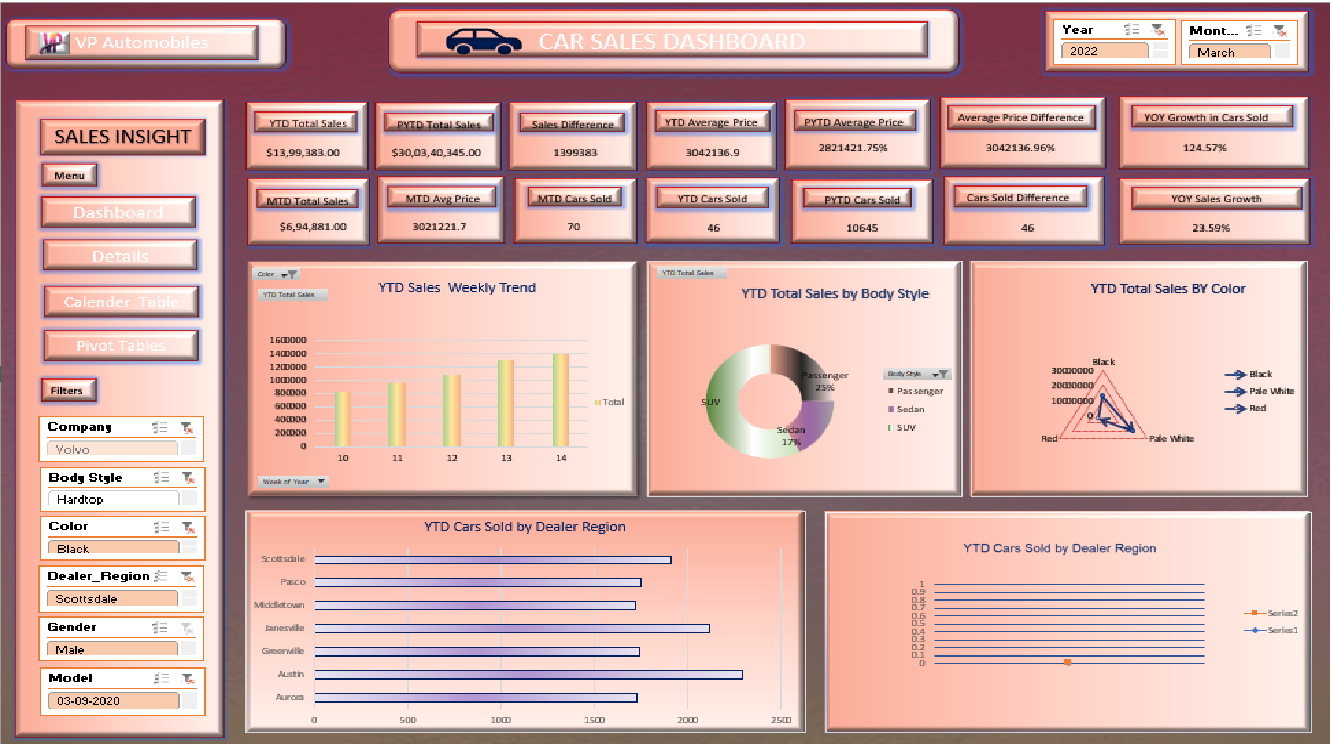

What the dashboard file says about the page in this screenshot:
{"tool":"powerbi","page":{"name":"Car Sales Dashboard","canvas":[1280,720],"ordinal":0},"visuals":[{"type":"textbox","box":[413.8,9.7,518.8,66.4],"z":0},{"type":"textbox","box":[7.2,14.4,307.2,57.7],"z":1000},{"type":"textbox","box":[4.8,351.1,105,37.4],"z":2000},{"type":"slicer","fields":{"Values":["cardata.Dealer_Region"]},"box":[18.6,478.4,184.5,70.1],"z":3000},{"type":"slicer","fields":{"Values":["cardata.Body Style"]},"box":[21.6,637.1,184.5,70.1],"z":4000},{"type":"slicer","fields":{"Values":["cardata.Color"]},"box":[21.6,555.7,180.4,73.2],"z":5000},{"type":"slicer","fields":{"Values":["cardata.Company"]},"box":[19.6,399,181.4,73.2],"z":6000},{"type":"card","fields":{"Values":["calender_data.YTD Total Sales"]},"box":[272.7,89.3,176.1,96.5],"z":7000},{"type":"card","fields":{"Values":["calender_data.MTD Total Sales"]},"box":[464.5,85.7,184.6,100.1],"z":8000},{"type":"card","fields":{"Values":["calender_data.MTD Avg Price"]},"box":[464.6,194.9,183.8,94.9],"z":9000},{"type":"card","fields":{"Values":["calender_data.PYTD Total Sales"]},"box":[270.9,195.3,176.7,96.5],"z":10000},{"type":"lineChart","fields":{"Y":["calender_data.YTD Cars Sold"],"Category":["calender_data.Year"]},"box":[988.1,85.7,275.1,199.1],"z":11000},{"type":"gauge","fields":{"Y":["calender_data.MTD Cars Sold"]},"box":[670.8,85.7,302.8,100.1],"z":12000},{"type":"gauge","fields":{"Y":["calender_data.PYTD Cars Sold"]},"box":[673.2,195.4,300.4,90.5],"z":13000},{"type":"lineClusteredColumnComboChart","title":"YTD Sales Weekly Trend","fields":{"Y":["calender_data.YTD Total Sales"],"Category":["calender_data.Week"]},"box":[270.7,304,377.8,209.1],"z":14000},{"type":"donutChart","fields":{"Y":["calender_data.YTD Total Sales"],"Category":["cardata.Body Style"]},"box":[670.7,304,303,209.1],"z":15000},{"type":"pieChart","fields":{"Y":["calender_data.YTD Total Sales"],"Category":["cardata.Color"]},"box":[986.9,304,275.8,209.1],"z":16000},{"type":"tableEx","title":"Company Wise Sales  Trend","fields":{"Values":["cardata.Company","calender_data.YTD Total Sales","calender_data.YTD Cars Sold","calender_data.YOY Sales Growth","calender_data.YTD Avg Price"]},"box":[270.2,530.8,532,177.3],"z":17000},{"type":"slicer","fields":{"Values":["calender_data.Date"]},"box":[1025.8,14.4,237.1,54.6],"z":18000},{"type":"funnel","fields":{"Y":["calender_data.YTD Total Sales"],"Category":["cardata.Dealer_Region"]},"box":[822.8,530.8,439.1,176.1],"z":19000},{"type":"pageNavigator","box":[19.6,243.3,181.4,46.4],"z":20000},{"type":"textbox","box":[7.2,137.1,93.8,38.1],"z":21000},{"type":"textbox","box":[20.5,82,159.3,50.7],"z":22000},{"type":"pageNavigator","title":"Details","box":[20.5,299.2,182.2,42.2],"z":23000},{"type":"pageNavigator","box":[18.6,186.6,182.5,48.5],"z":24000},{"type":"image","box":[19.6,17.5,53.6,49.5],"z":25000},{"type":"image","box":[19.6,187.6,55.7,47.4],"z":26000}]}

Visuals, with their boxes in screenshot pixels (x1, y1, x2, y2), scaled from the page's 1280x720 canvas onto the 1332x745 screenshot:
textbox: [431,10,970,79]
textbox: [7,15,327,75]
textbox: [5,363,114,402]
slicer - cardata.Dealer_Region: [19,495,211,568]
slicer - cardata.Body Style: [22,659,214,732]
slicer - cardata.Color: [22,575,210,651]
slicer - cardata.Company: [20,413,209,489]
card - calender_data.YTD Total Sales: [284,92,467,192]
card - calender_data.MTD Total Sales: [483,89,675,192]
card - calender_data.MTD Avg Price: [483,202,675,300]
card - calender_data.PYTD Total Sales: [282,202,466,302]
lineChart - calender_data.YTD Cars Sold x calender_data.Year: [1028,89,1315,295]
gauge - calender_data.MTD Cars Sold: [698,89,1013,192]
gauge - calender_data.PYTD Cars Sold: [701,202,1013,296]
"YTD Sales Weekly Trend" lineClusteredColumnComboChart: [282,315,675,531]
donutChart - calender_data.YTD Total Sales x cardata.Body Style: [698,315,1013,531]
pieChart - calender_data.YTD Total Sales x cardata.Color: [1027,315,1314,531]
"Company Wise Sales  Trend" tableEx: [281,549,835,733]
slicer - calender_data.Date: [1067,15,1314,71]
funnel - calender_data.YTD Total Sales x cardata.Dealer_Region: [856,549,1313,731]
pageNavigator: [20,252,209,300]
textbox: [7,142,105,181]
textbox: [21,85,187,137]
"Details" pageNavigator: [21,310,211,353]
pageNavigator: [19,193,209,243]
image: [20,18,76,69]
image: [20,194,78,243]
